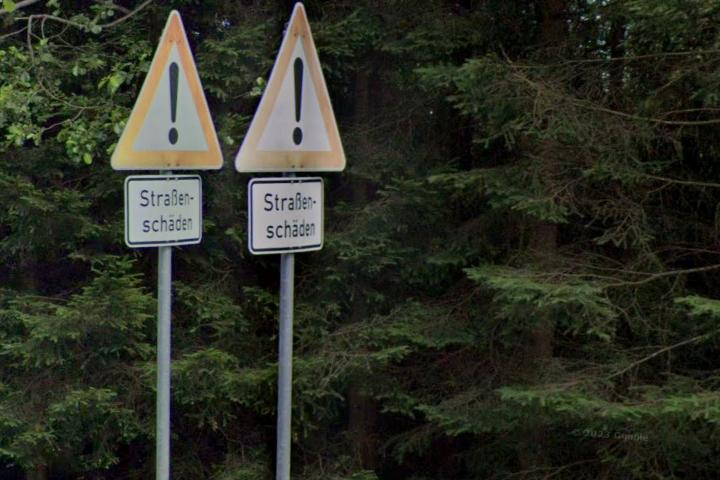traffic_sign: (234, 1, 347, 176), (109, 9, 225, 171)
